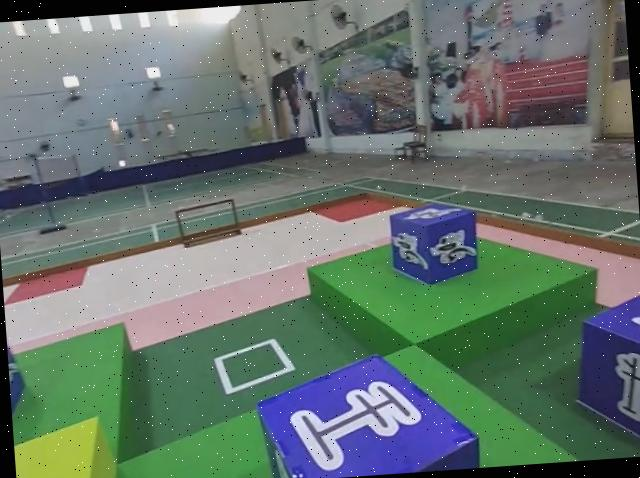R1 Blue: (384, 203, 481, 292), (5, 318, 29, 449)
R2 Fake Blue: (251, 349, 476, 478)
R2 Real Blue: (572, 291, 640, 460)
